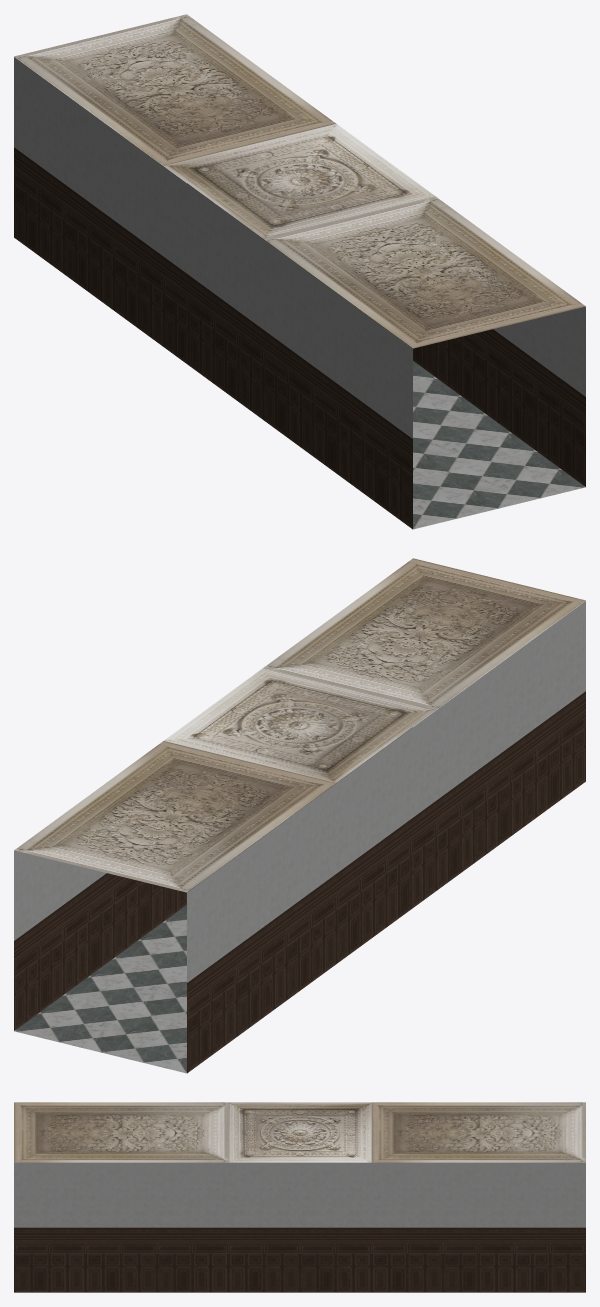
Rendered from room.glb.
3 views of the same model, one above another, from view 1: azimuth 30°, elevation 25°; view 2: azimuth 150°, elevation 25°; view 3: azimuth 270°, elevation 25° (orthographic). The views are drawn at different scales.
Visible parts, largest first — view 1: wall_wood_frame, wall_concrete, Plane, Plane.002, Plane.001, Floor; view 2: wall_wood_frame, wall_concrete, Plane, Plane.002, Plane.001, Floor; view 3: wall_wood_frame, wall_concrete, Plane, Plane.002, Plane.001.
Boxes of the visible parts, bbox=[...] form: wall_wood_frame: bbox=[14, 147, 585, 529]; wall_concrete: bbox=[14, 57, 585, 438]; Plane: bbox=[264, 197, 585, 348]; Plane.002: bbox=[14, 14, 335, 165]; Plane.001: bbox=[164, 124, 435, 238]; Floor: bbox=[413, 361, 585, 529]; wall_wood_frame: bbox=[14, 691, 585, 1073]; wall_concrete: bbox=[14, 601, 585, 982]; Plane: bbox=[264, 558, 585, 709]; Plane.002: bbox=[14, 741, 335, 892]; Plane.001: bbox=[164, 668, 435, 782]; Floor: bbox=[14, 905, 186, 1073]; wall_wood_frame: bbox=[14, 1227, 585, 1292]; wall_concrete: bbox=[14, 1162, 585, 1227]; Plane: bbox=[14, 1102, 228, 1162]; Plane.002: bbox=[371, 1102, 585, 1162]; Plane.001: bbox=[228, 1102, 371, 1162].
Bounding box in the file's own units: 16 × 16.02 × 64.
Materials: 5 (5 with a texture image).
